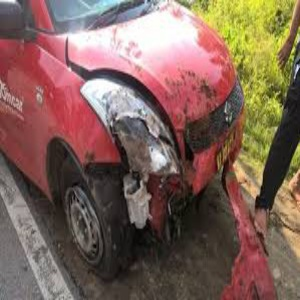bumper: (129, 173, 246, 253)
head_lights: (80, 76, 180, 178)
